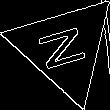N_E: (34, 21, 95, 75)
